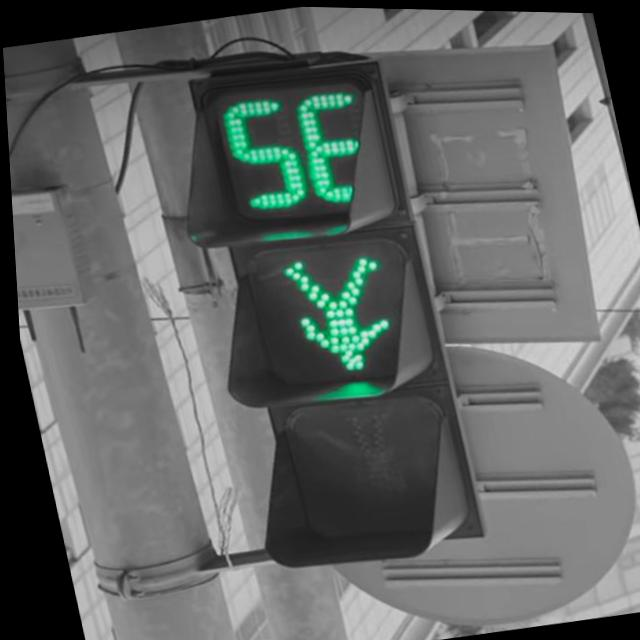green_light: (199, 73, 411, 395)
